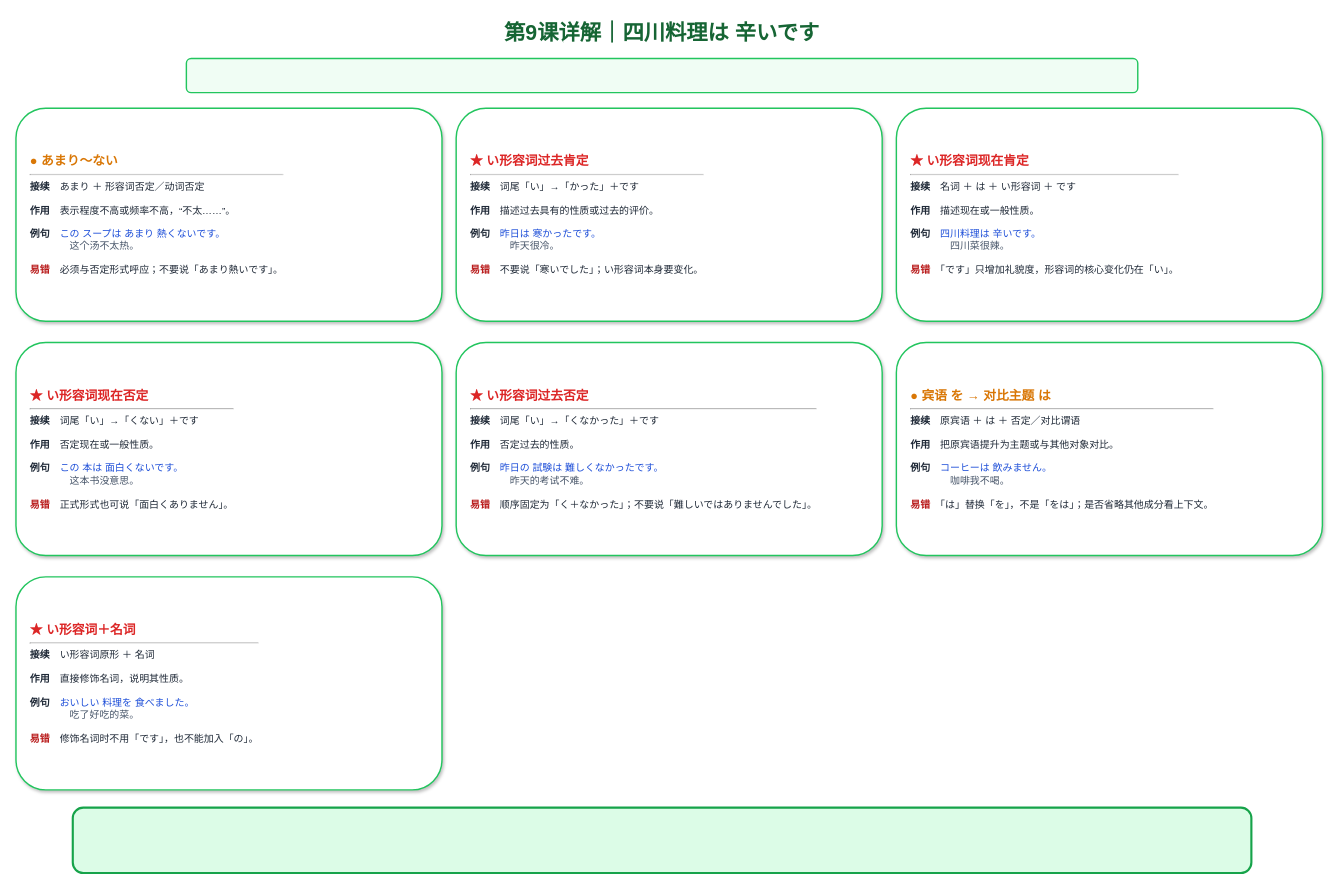
The diagram is 1339 pixels wide and 886 high, and some of its shapes have lost their labels. The shapes that lost their labels are listed below. From the top down, each one's centre as x and y in pixels, then its label:
the point at 661,75: 本课目标：掌握い形容词的现在、过去、肯定、否定及名词修饰。
the point at 661,840: 本课结构关系 い形容词以词尾「い」变化：くない、かった、くなかった；直接修饰名词时保留「い」。 最低掌握标准 任给一个い形容词，能在5秒内说出四种谓语形式。
